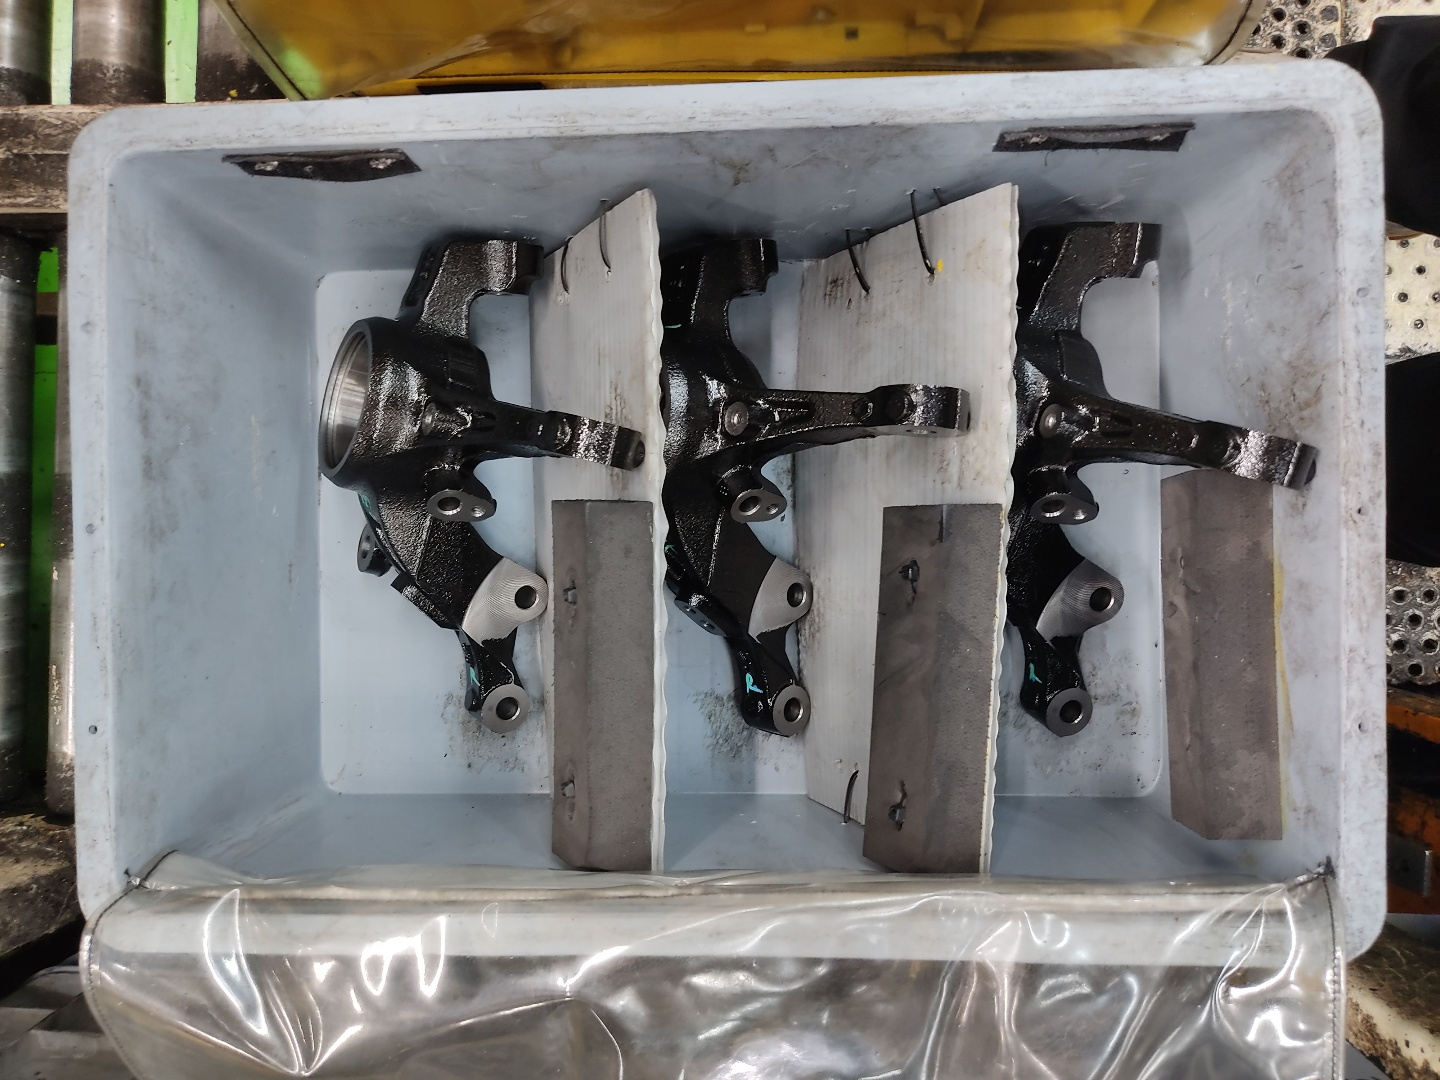abs-rh: (310, 221, 651, 741), (646, 214, 974, 746), (1008, 211, 1324, 745)
